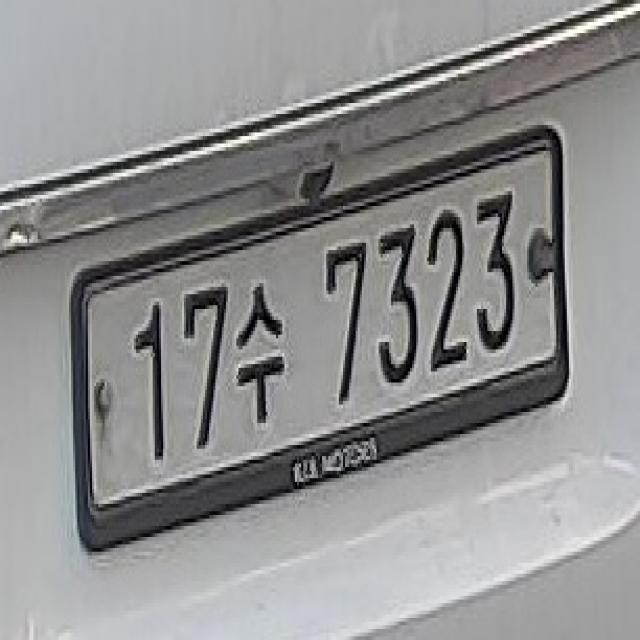1: (128, 280, 174, 474)
2: (420, 188, 470, 386)
3: (374, 202, 418, 401), (472, 180, 518, 357)
7: (176, 265, 234, 463), (318, 224, 370, 416)
license_plate: (63, 107, 573, 562)
su: (234, 272, 295, 438)
